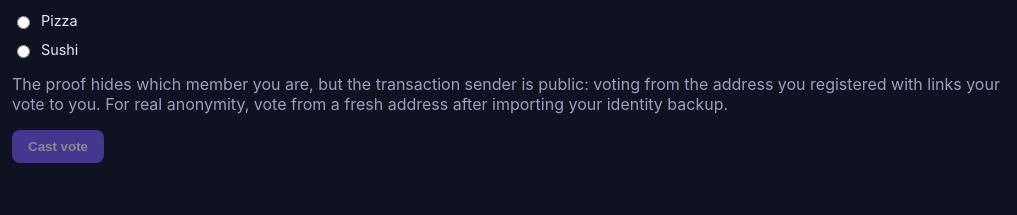
Test case: VotePanel › success message does not overclaim anonymity
Step 1. Click the radio button labelled "Pizza" → [24, 22], box [17,16,30,28]
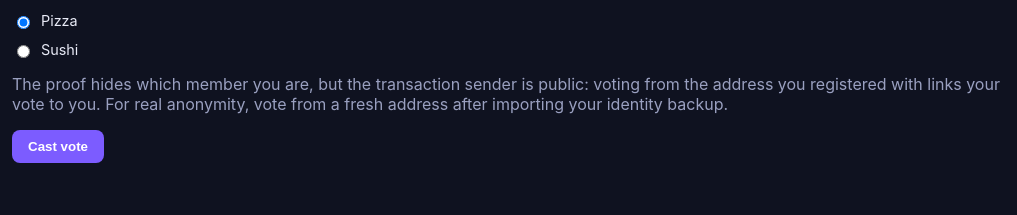
Step 2. Click the button "Cast vote" → [58, 146], box [12,130,104,163]
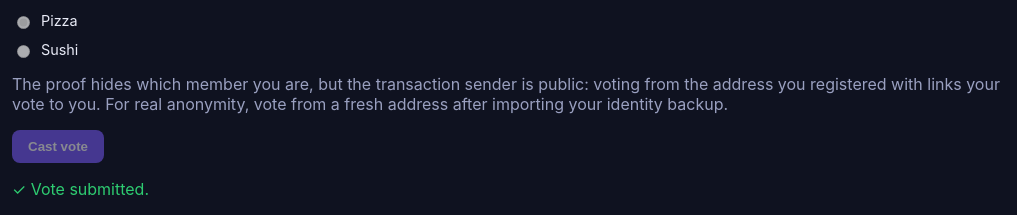
Expected: the text "✓ Vote submitted." is shown, [12,179,149,199]
